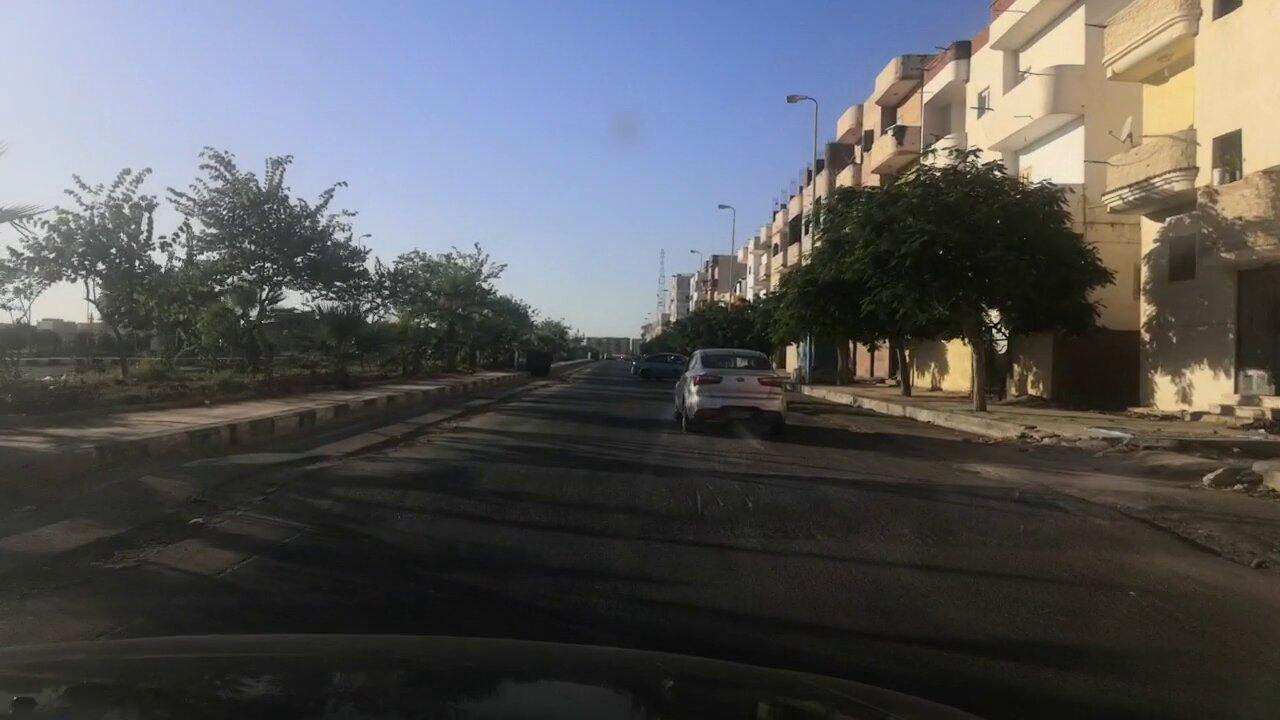Pothole: (7, 413, 473, 640)
